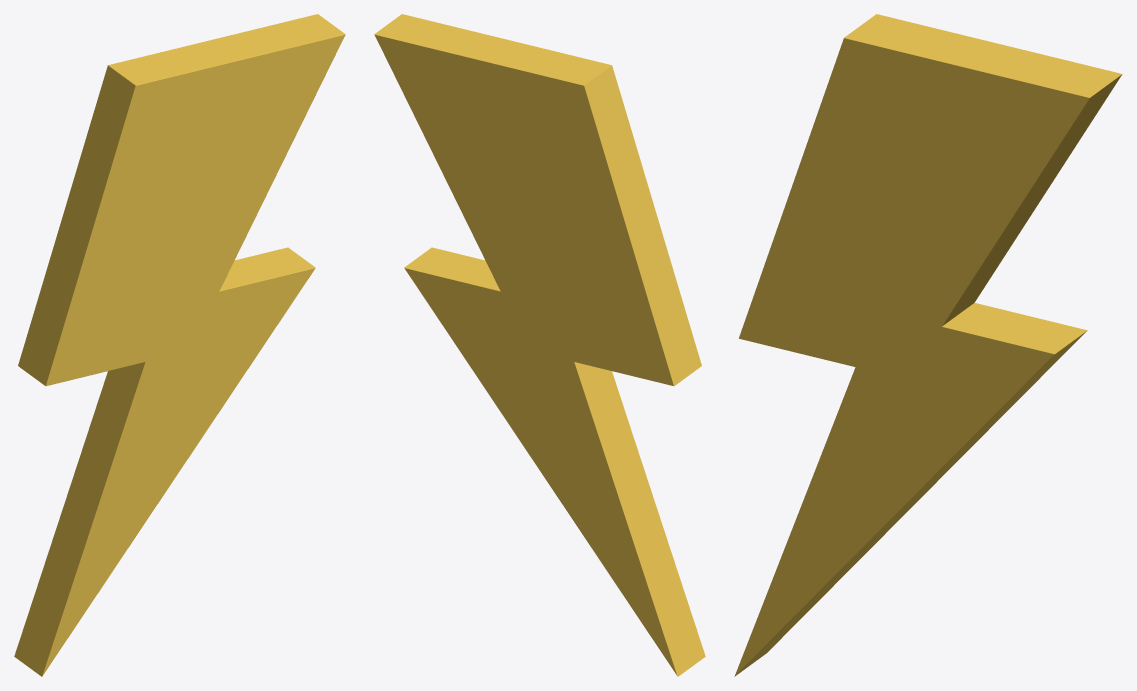
The model's file is lightning.fbx.
3 views of the same model, side by side, from view 1: azimuth 30°, elevation 25°; view 2: azimuth 150°, elevation 25°; view 3: azimuth 330°, elevation 25° (orthographic). The views are drawn at different scales.
Parts seen in each view (by area): view 1: Curve; view 2: Curve; view 3: Curve.
Boxes of the visible parts, <box> form: Curve: <box>14,14,345,676</box>; Curve: <box>374,14,705,676</box>; Curve: <box>734,14,1122,676</box>.
Size of the model in its own units: 12.65 by 22.63 by 2.02.
